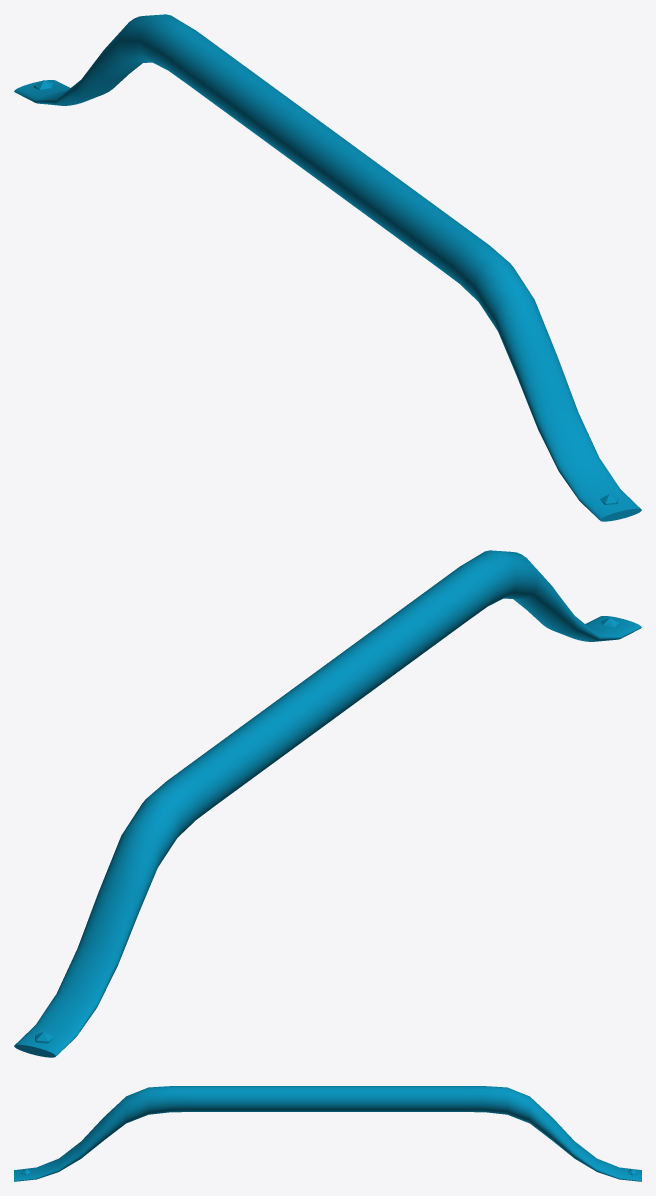
File: HGR.glb
The picture shows the model from 3 angles, top to bottom: view 1: azimuth 30°, elevation 25°; view 2: azimuth 150°, elevation 25°; view 3: azimuth 270°, elevation 25°; orthographic projection. The views are drawn at different scales.
Visible parts, largest first — view 1: Hand_grip,_colorize_; view 2: Hand_grip,_colorize_; view 3: Hand_grip,_colorize_.
Boxes of the visible parts, x1=… form: Hand_grip,_colorize_: x1=14, y1=14, x2=641, y2=521; Hand_grip,_colorize_: x1=14, y1=550, x2=641, y2=1057; Hand_grip,_colorize_: x1=14, y1=1086, x2=641, y2=1181.
Size of the model in its own units: 0.0165 by 0.0648 by 0.3962.
